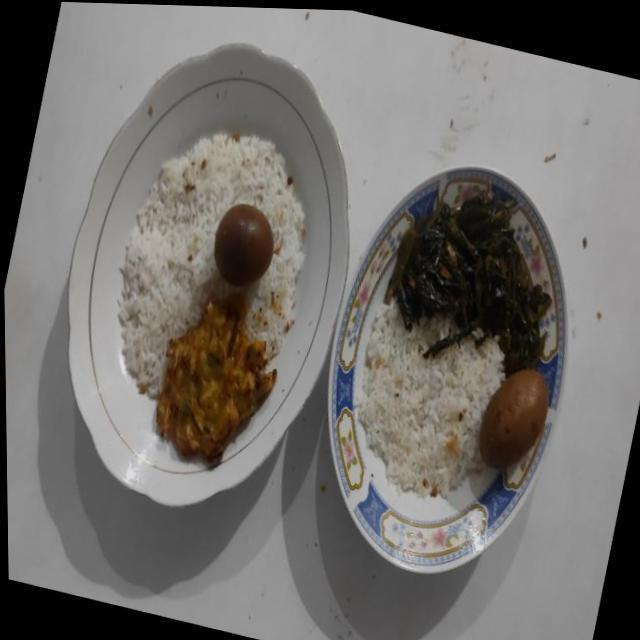nasi_putih: (118, 132, 304, 398), (358, 304, 504, 498)
tumis_kangkung: (388, 194, 549, 374)
